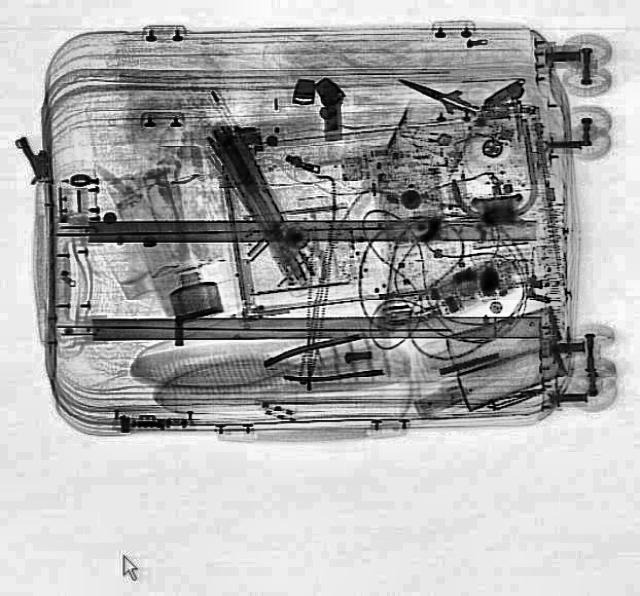Knife: (390, 66, 482, 122)
